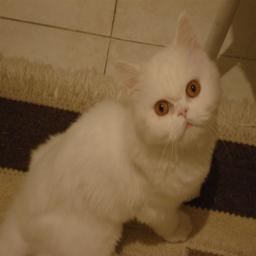catnose: (176, 106, 189, 120)
